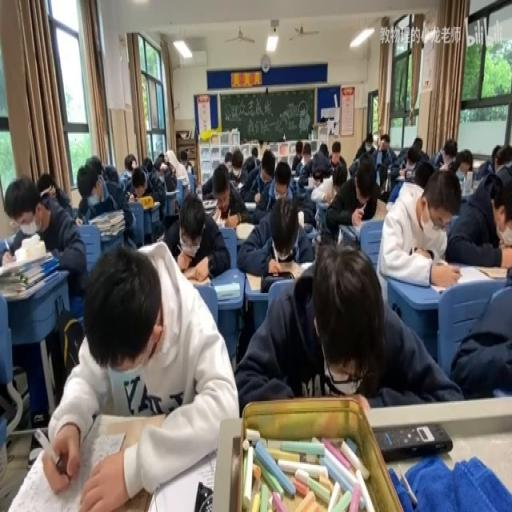calculator: (147, 450, 222, 509), (433, 260, 505, 290), (244, 265, 311, 290), (90, 429, 126, 461), (18, 232, 46, 260), (118, 196, 157, 215), (213, 282, 241, 300), (315, 198, 329, 230), (235, 222, 256, 242), (185, 272, 211, 284), (350, 222, 364, 240), (298, 258, 314, 272), (430, 283, 450, 294), (210, 205, 222, 223), (470, 176, 482, 194), (201, 196, 216, 209), (155, 170, 165, 184), (306, 175, 315, 188), (374, 150, 382, 164), (195, 184, 202, 199), (243, 201, 256, 209), (292, 174, 302, 184), (75, 216, 83, 225), (395, 172, 405, 179), (149, 199, 159, 206), (236, 179, 243, 189), (290, 171, 296, 176)
paper: (45, 239, 237, 506), (233, 240, 453, 410), (4, 174, 86, 304), (445, 168, 512, 266), (237, 188, 314, 273), (166, 188, 230, 278), (77, 156, 134, 250), (325, 154, 380, 239), (200, 154, 229, 198), (348, 132, 374, 174), (432, 135, 458, 168), (412, 159, 434, 189), (386, 176, 408, 205), (453, 148, 473, 178), (88, 154, 106, 184), (38, 171, 56, 199), (130, 166, 146, 196), (274, 160, 290, 190), (261, 148, 275, 178), (291, 141, 304, 172), (388, 148, 406, 169), (370, 196, 386, 219), (333, 158, 346, 186), (103, 163, 119, 185), (376, 162, 387, 192), (490, 142, 502, 169), (162, 169, 176, 192), (118, 171, 132, 192), (230, 154, 242, 174), (124, 154, 137, 172), (406, 154, 420, 170), (378, 134, 390, 152), (142, 155, 152, 174), (154, 154, 164, 172), (411, 135, 422, 151), (178, 151, 188, 168), (318, 142, 328, 158), (245, 155, 254, 172), (331, 142, 340, 158), (302, 144, 310, 158), (224, 151, 231, 165), (365, 136, 372, 148), (250, 144, 256, 156), (163, 155, 169, 164)
person: (374, 422, 451, 461)
